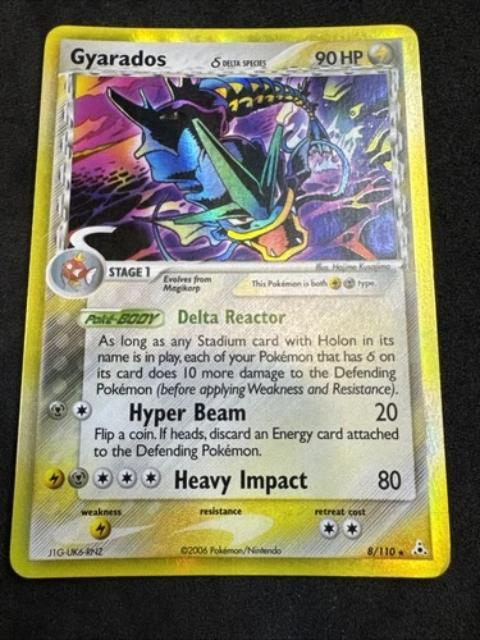Card: (1, 18, 458, 585)
Name: (64, 41, 174, 77)
